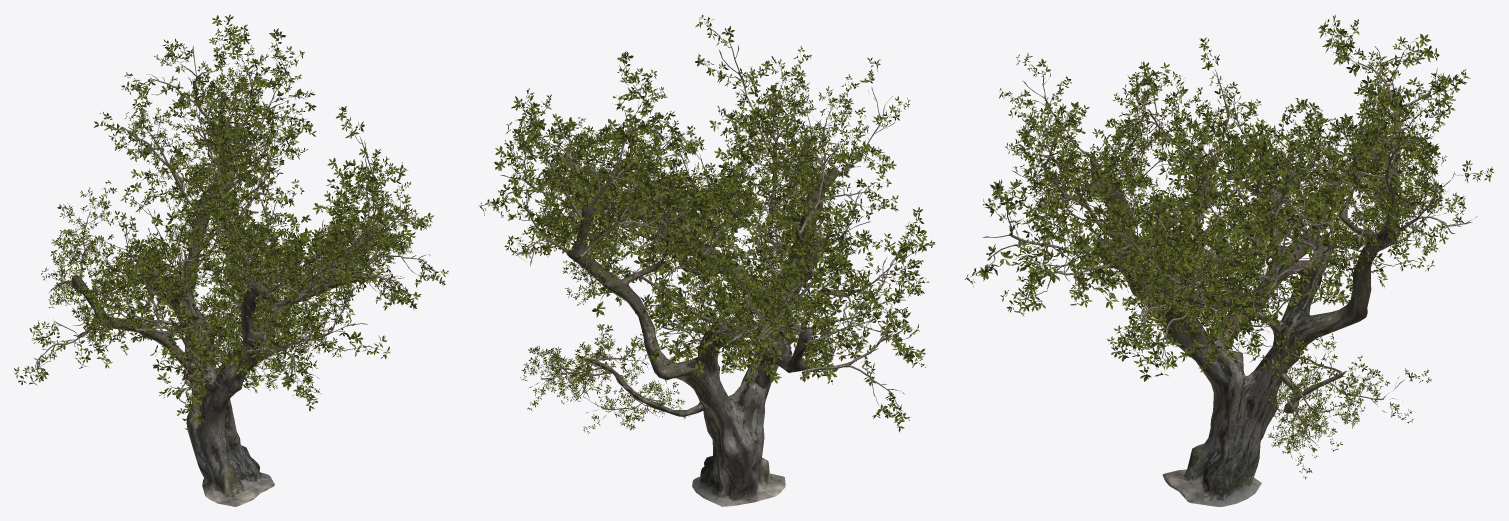
Rendered from island_tree_01.glb.
The picture shows the model from 3 angles, left to right: view 1: azimuth 30°, elevation 25°; view 2: azimuth 150°, elevation 25°; view 3: azimuth 270°, elevation 25°; orthographic projection. The views are drawn at different scales.
Parts seen in each view (by area): view 1: island_tree_01_LOD0; view 2: island_tree_01_LOD0; view 3: island_tree_01_LOD0.
Boxes of the visible parts, x1,y1,x2,y2 form: island_tree_01_LOD0: (14, 14, 448, 506); island_tree_01_LOD0: (478, 15, 935, 506); island_tree_01_LOD0: (965, 14, 1494, 506).
Size of the model in its own units: 4.75 by 5.02 by 4.82.
3 materials, 3 textured.
